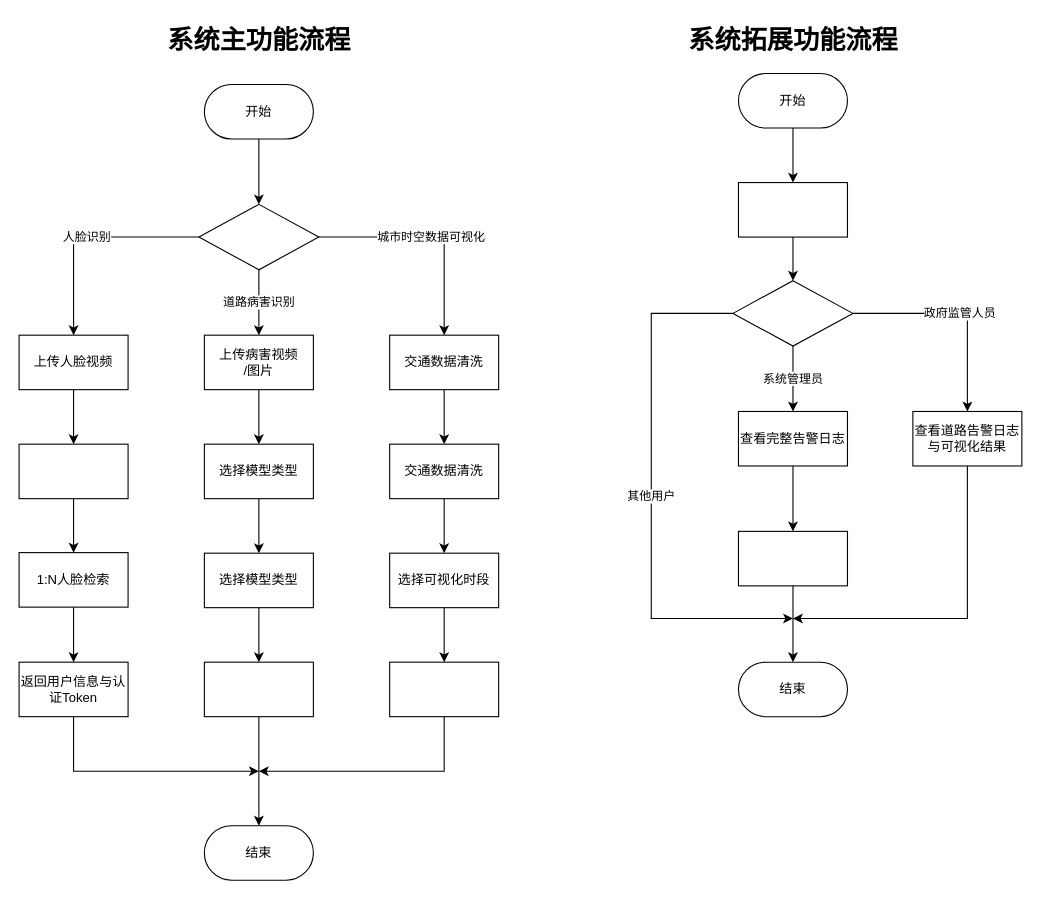
The diagram is 1041 pixels wide and 899 high, and some of its shapes have lost their labels. Each missing label, with the centre of its shape:
"H5视频活体检测" goes at pixel 73 471.
"查看交通热力图" goes at pixel 444 689.
"查看识别结果" goes at pixel 258 689.
"用户账密(邮箱) 登录" goes at pixel 792 209.
"用户身份?" goes at pixel 792 313.
"管理用户设置" goes at pixel 792 558.
"选择系统功能" goes at pixel 258 236.
